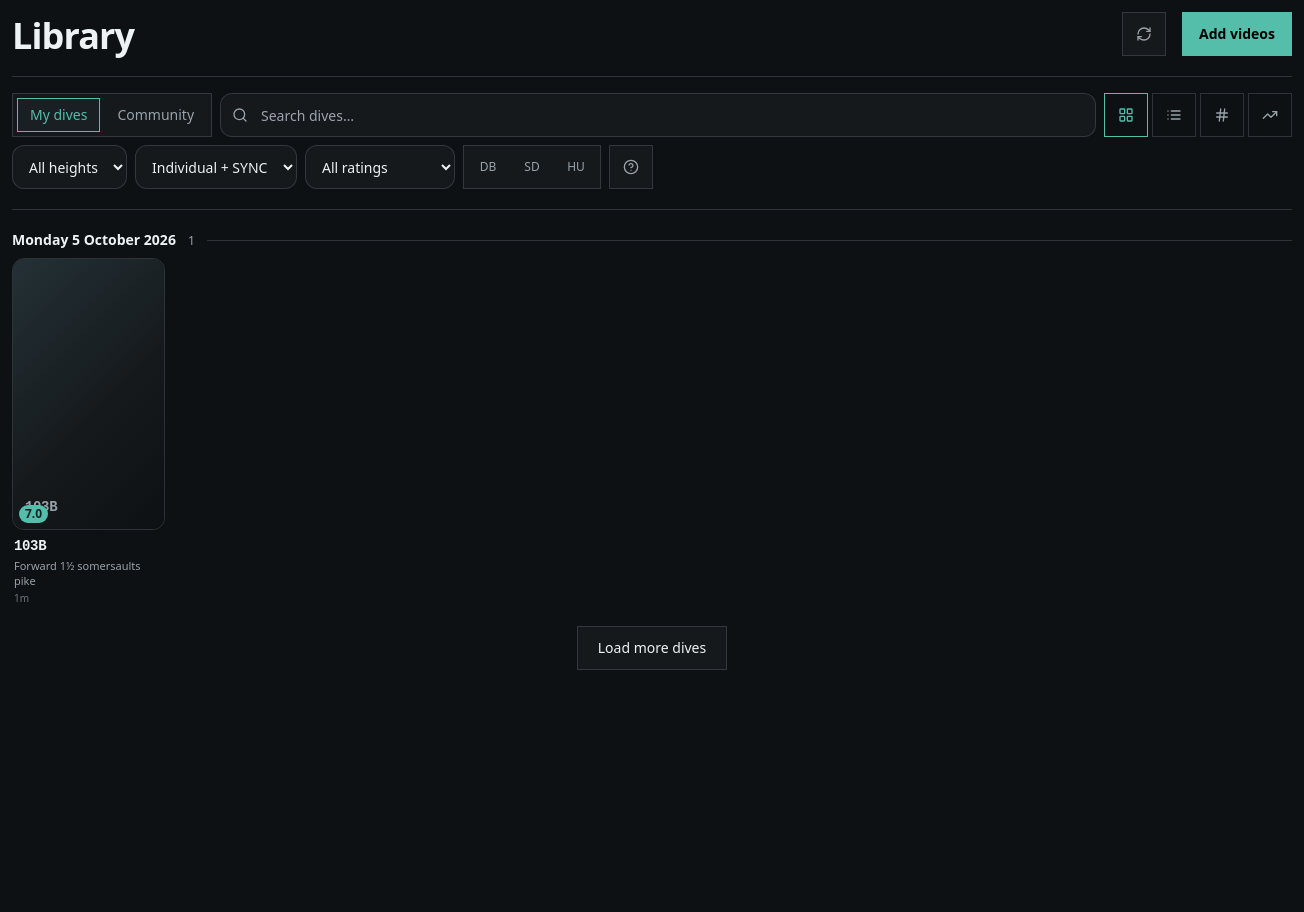
Test: loads older server pages without duplicating rows
Click the button "Load more dives": [652, 648] box [577,626,727,670]
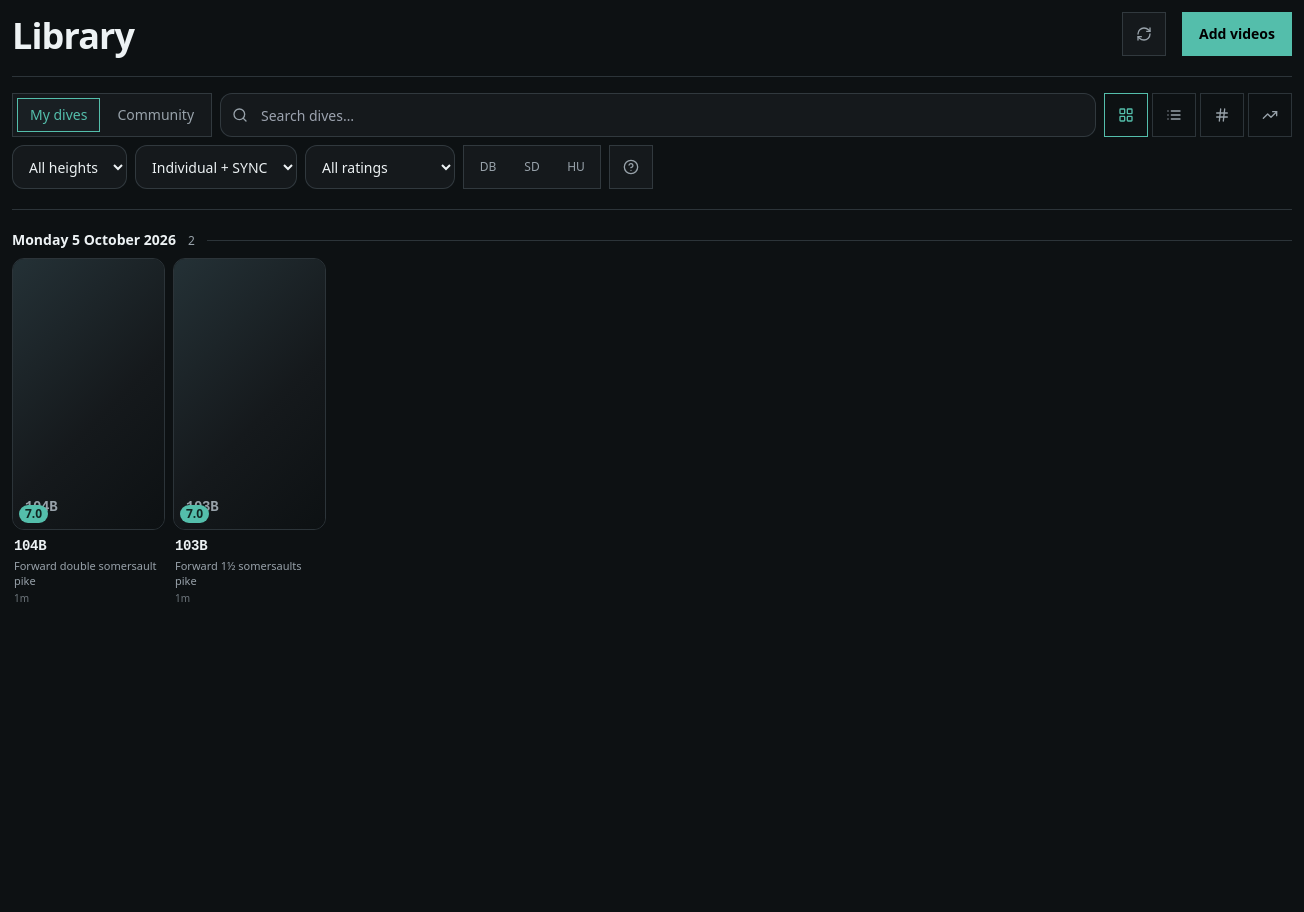
Check: the button "Load more dives" is gone
